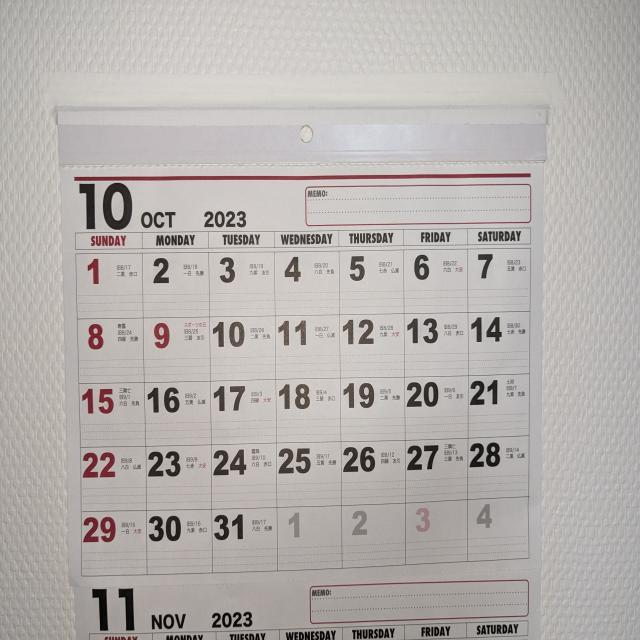calendar: (62, 161, 540, 578)
